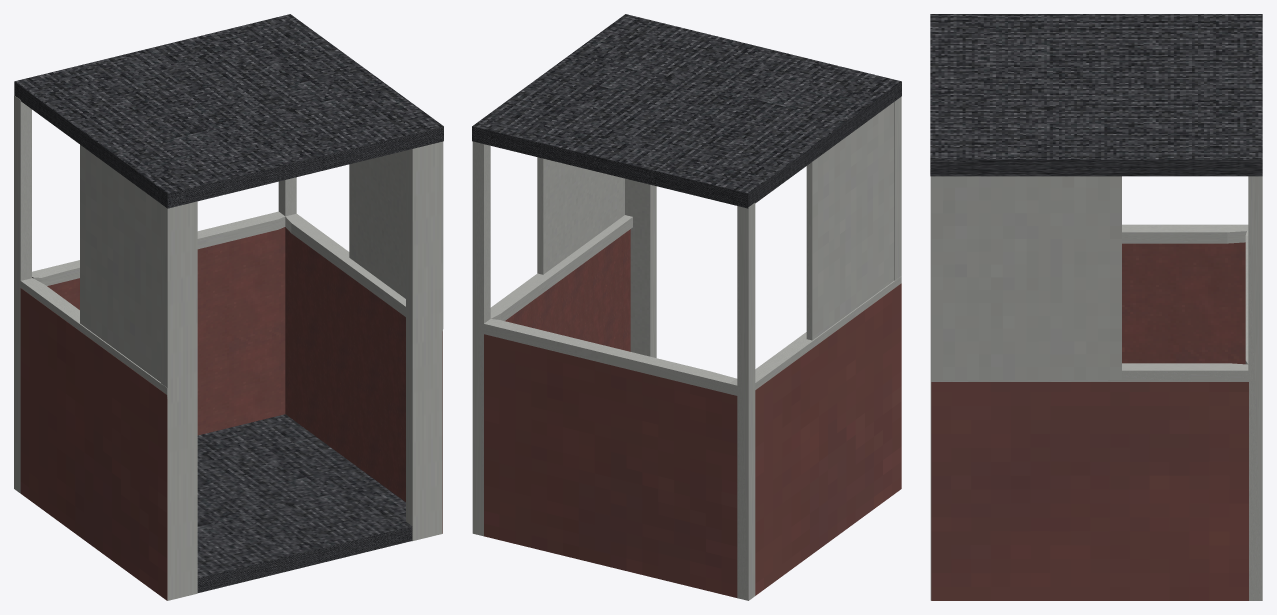
The model's file is elevator.fbx.
The picture shows the model from 3 angles, left to right: view 1: azimuth 30°, elevation 25°; view 2: azimuth 150°, elevation 25°; view 3: azimuth 270°, elevation 25°; orthographic projection. The views are drawn at different scales.
Visible parts, largest first — view 1: Cube.012, Cube.001, Cube.011, Cube, Cube.002, Cube.003, Cube.006, Cube.009, Cube.004, Cube.008, Cube.010, Cube.007 (+1 smaller); view 2: Cube.003, Cube.012, Cube.001, Cube.006, Cube.002, Cube.004, Cube.009, Cube.011, Cube.005, Cube.010, Cube.008, Cube.007; view 3: Cube.002, Cube.012, Cube.009, Cube.001, Cube.005, Cube.008, Cube.007, Cube.011, Cube.010.
Part boxes in pixels (x1,y1,x2,y2): Cube.012: (14,14,443,208); Cube.001: (20,288,167,600); Cube.011: (161,141,442,600); Cube: (197,414,412,592); Cube.002: (285,227,442,533); Cube.003: (47,227,285,435); Cube.006: (80,145,160,382); Cube.009: (349,141,443,328); Cube.004: (14,95,31,493); Cube.008: (285,213,442,330); Cube.010: (32,211,285,285); Cube.007: (20,278,167,396); Cube.003: (484,334,737,597); Cube.012: (472,14,901,208); Cube.001: (755,283,901,595); Cube.006: (806,102,894,340); Cube.002: (505,229,630,351); Cube.004: (737,203,755,600); Cube.009: (537,157,624,274); Cube.011: (625,96,901,357); Cube.005: (472,141,490,536); Cube.010: (483,319,737,395); Cube.008: (490,215,632,320); Cube.007: (755,276,901,389); Cube.002: (931,382,1248,600); Cube.012: (930,14,1262,176); Cube.009: (931,176,1121,379); Cube.001: (1122,242,1245,364); Cube.005: (1248,176,1262,600); Cube.008: (931,363,1248,381); Cube.007: (1122,224,1248,243); Cube.011: (930,176,931,600); Cube.010: (1245,230,1248,364).
Size of the model in its own units: 544 by 766 by 523.
